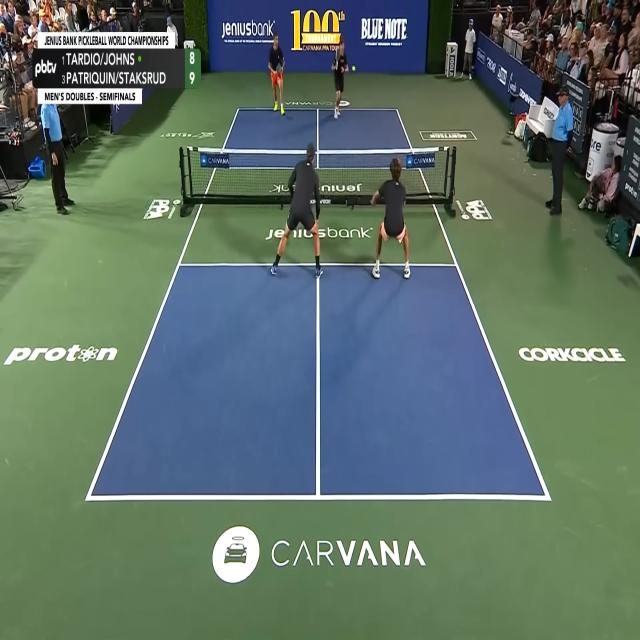ball: (352, 64, 356, 71)
